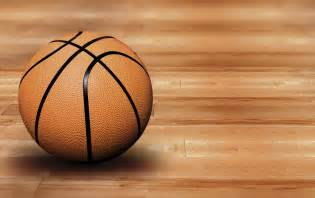basketball: (18, 30, 153, 164)
